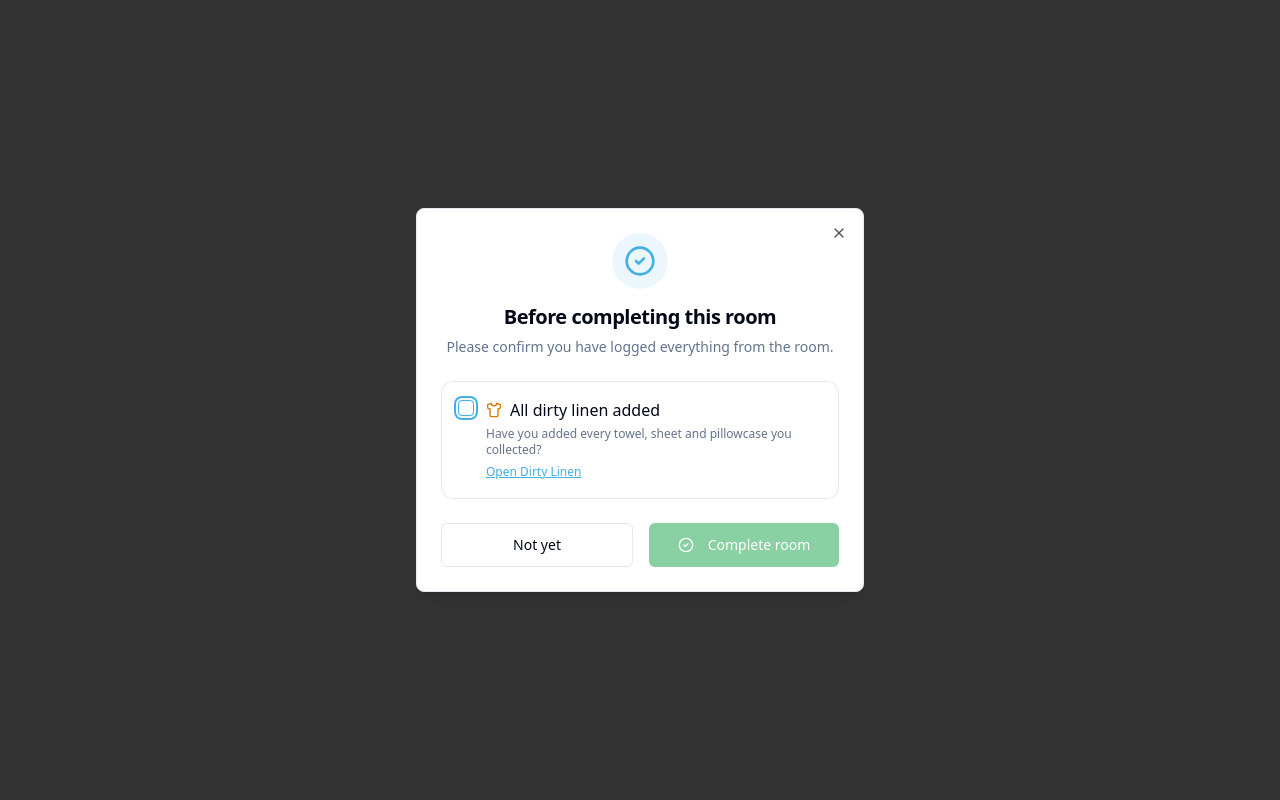
Scenario: SLNT linen-only completion confirmation › keeps the dirty-linen confirmation and removes minibar in English
Later steps or results of the test are not shown.
Expected: the text "All dirty linen added" is shown, x1=486 y1=399 x2=660 y2=421
Expected: the button "Complete room" is disabled, x1=649 y1=523 x2=839 y2=567
Click the checkbox at [466, 408], box x1=458 y1=400 x2=474 y2=416
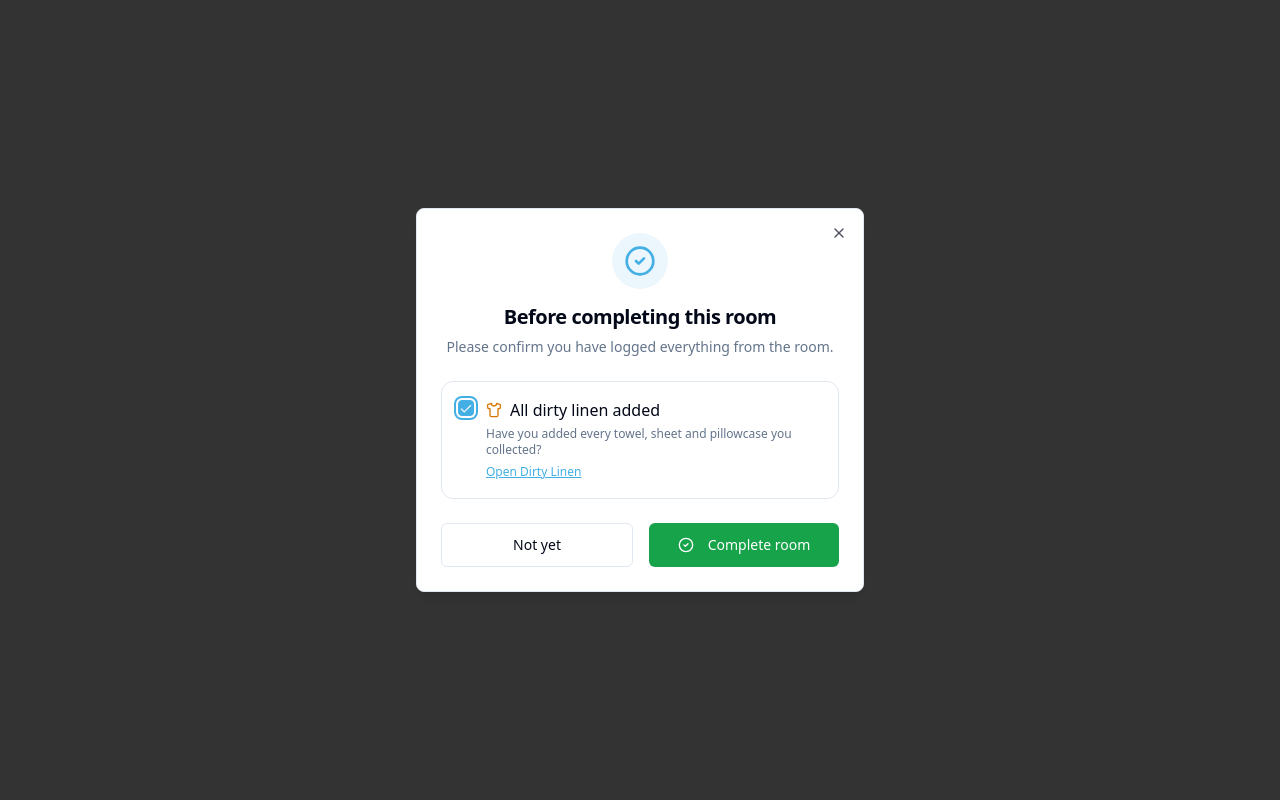
Expected: the button "Complete room" is enabled, x1=649 y1=523 x2=839 y2=567
